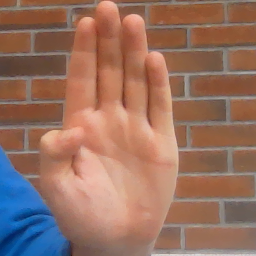B: (31, 1, 181, 246)
